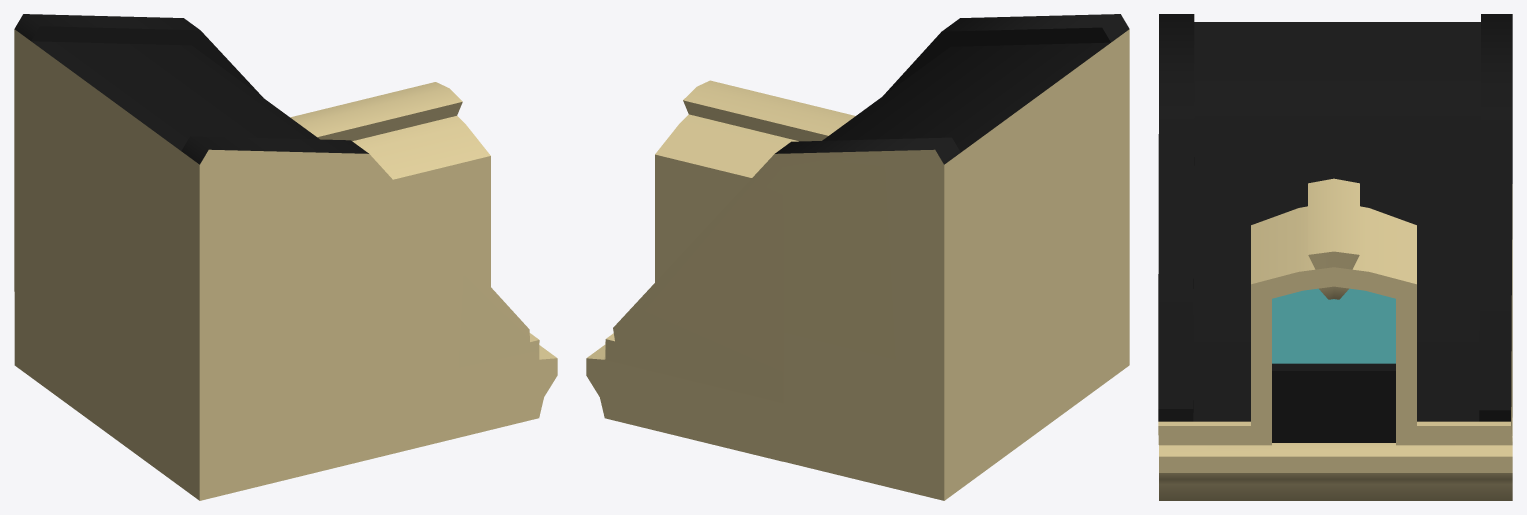
File: FrenchWall3.fbx
3 renders of one model, left to right at view 1: azimuth 30°, elevation 25°; view 2: azimuth 150°, elevation 25°; view 3: azimuth 270°, elevation 25°, orthographic. The views are drawn at different scales.
Parts seen in each view (by area): view 1: Cube.002; view 2: Cube.002; view 3: Cube.002.
Boxes of the visible parts, bbox=[...] form: Cube.002: bbox=[14, 14, 557, 500]; Cube.002: bbox=[586, 14, 1129, 500]; Cube.002: bbox=[1158, 14, 1512, 500].
Size of the model in its own units: 446 by 415 by 401.
